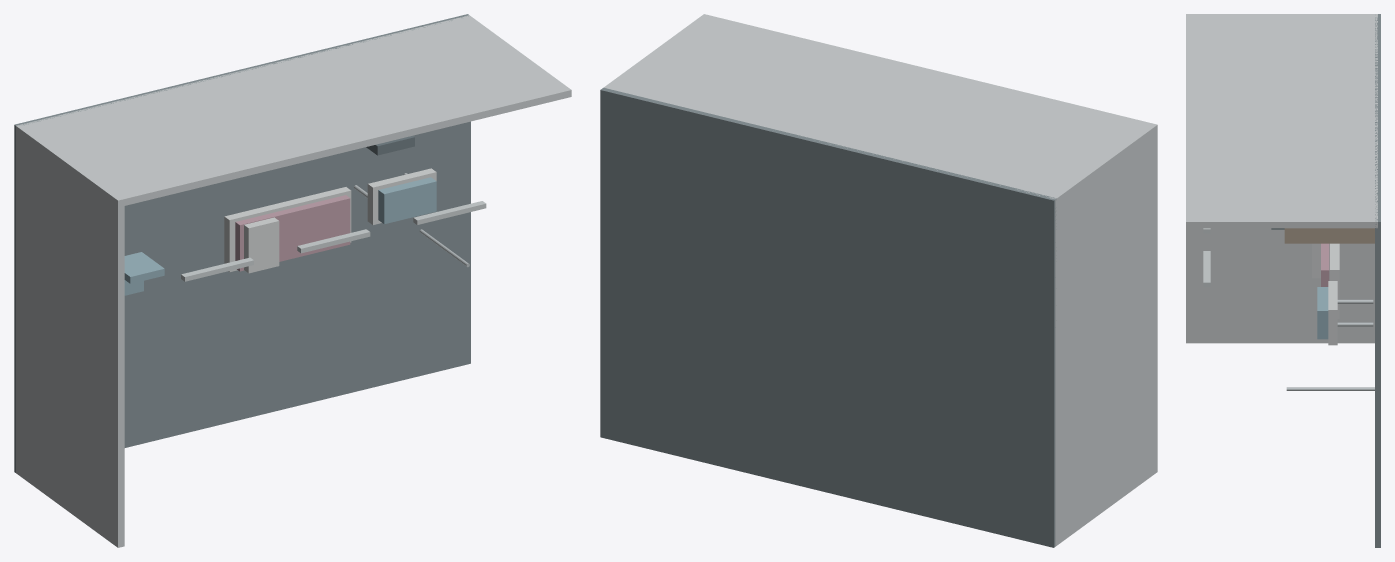
File: maternity-room-medium.glb
The picture shows the model from 3 angles, left to right: view 1: azimuth 30°, elevation 25°; view 2: azimuth 150°, elevation 25°; view 3: azimuth 270°, elevation 25°; orthographic projection. The views are drawn at different scales.
Parts seen in each view (by area): view 1: floor, wall_back, wall_left, maternity_mattress, bassinet_pad, pillow, maternity_bed, newborn_bassinet, chair_back; view 2: floor, wall_back, wall_left; view 3: wall_back, wall_left, floor, maternity_cabinet, newborn_bassinet, bassinet_pad, maternity_bed, maternity_mattress, iv_stand, pillow, ceiling_panel_3.
Boxes of the visible parts, x1,y1,x2,y2 form: floor: (14, 14, 470, 472); wall_back: (22, 15, 571, 207); wall_left: (16, 124, 124, 547); maternity_mattress: (235, 195, 350, 271); bassinet_pad: (378, 177, 436, 224); pillow: (244, 217, 279, 273); maternity_bed: (224, 187, 351, 272); newborn_bassinet: (367, 168, 436, 224); chair_back: (124, 252, 164, 283); floor: (600, 87, 1056, 547); wall_back: (604, 14, 1155, 205); wall_left: (1049, 123, 1157, 546); wall_back: (1186, 14, 1377, 228); wall_left: (1186, 14, 1377, 343); floor: (1375, 14, 1380, 547); maternity_cabinet: (1284, 228, 1374, 243); newborn_bassinet: (1328, 281, 1337, 345); bassinet_pad: (1317, 287, 1328, 339); maternity_bed: (1330, 243, 1339, 318); maternity_mattress: (1321, 243, 1329, 286); iv_stand: (1286, 387, 1374, 390); pillow: (1312, 243, 1320, 278); ceiling_panel_3: (1203, 251, 1210, 286).
Size of the model in its own units: 8.2 by 6 by 3.25.
